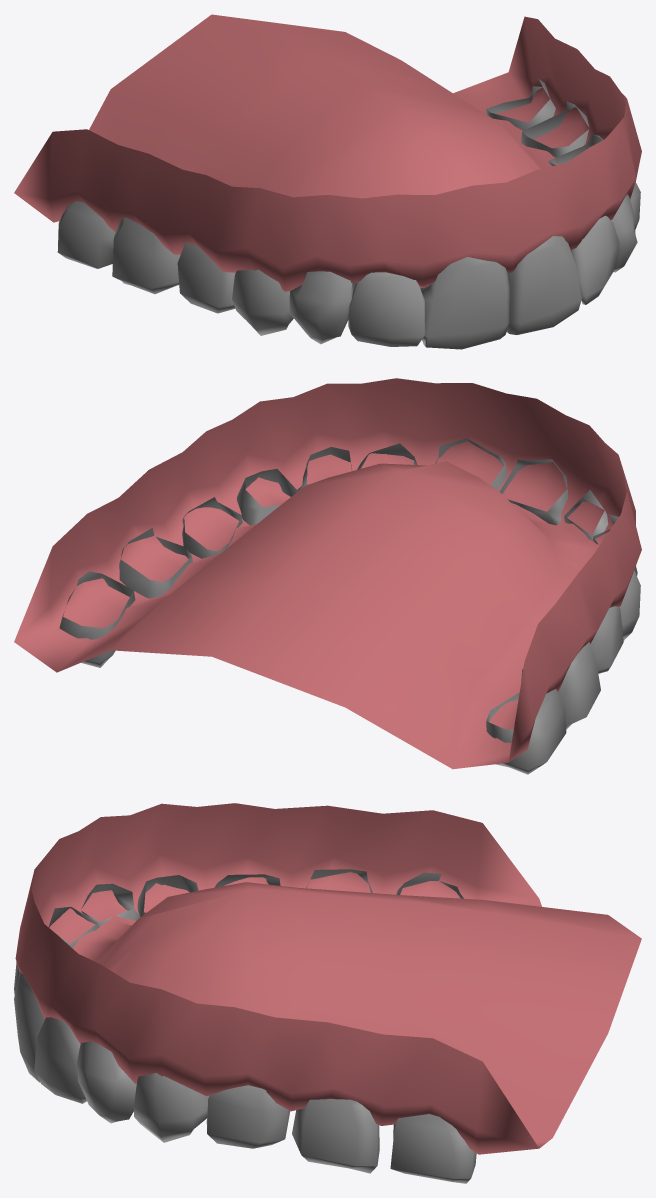
Rendered from JawMeshUpper.fbx.
3 renders of one model, top to bottom at view 1: azimuth 30°, elevation 25°; view 2: azimuth 150°, elevation 25°; view 3: azimuth 270°, elevation 25°, orthographic. The views are drawn at different scales.
Visible parts, largest first — view 1: Jaw_Mesh_upper; view 2: Jaw_Mesh_upper; view 3: Jaw_Mesh_upper.
Part boxes in pixels (x1,y1,x2,y2): Jaw_Mesh_upper: [14, 14, 641, 349]; Jaw_Mesh_upper: [14, 378, 641, 774]; Jaw_Mesh_upper: [14, 803, 641, 1183].
Bounding box in the file's own units: 32.19 × 10.87 × 34.16.
